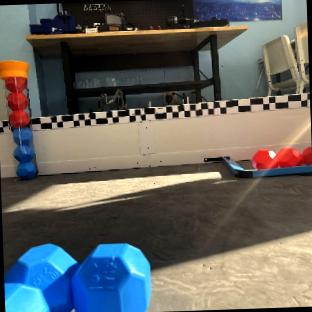V5_BLUE: (4, 243, 150, 312), (13, 128, 35, 178)
V5_RED: (254, 147, 312, 169), (7, 77, 29, 125)
